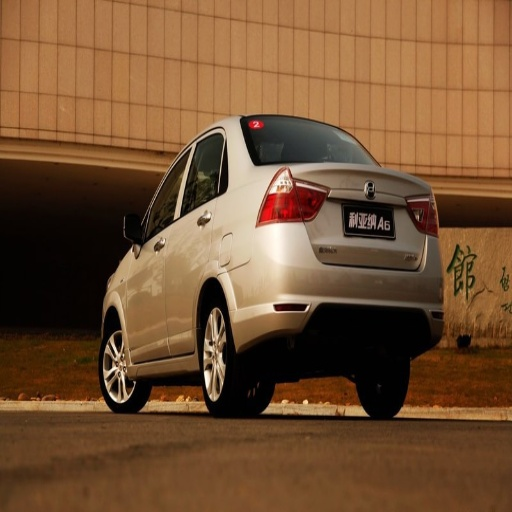back_bumper: (227, 224, 448, 349)
back_glass: (249, 118, 370, 163)
back_left_door: (171, 145, 220, 352)
